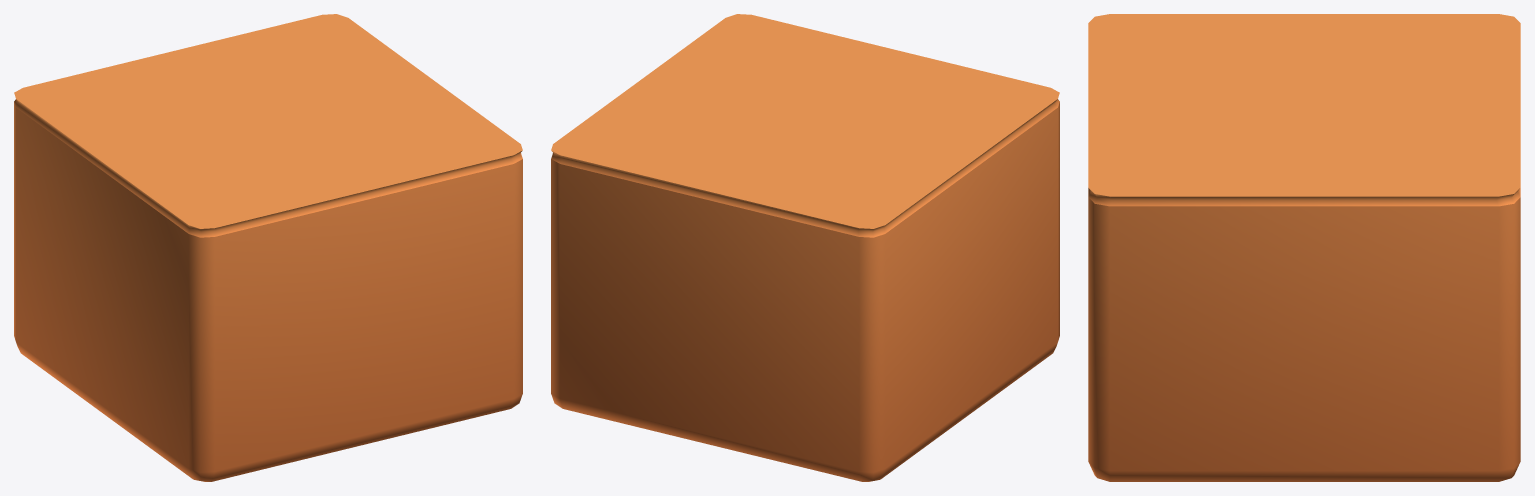
File: 3D_Tile_Socket_Ground_01.fbx
The picture shows the model from 3 angles, left to right: view 1: azimuth 30°, elevation 25°; view 2: azimuth 150°, elevation 25°; view 3: azimuth 270°, elevation 25°; orthographic projection. The views are drawn at different scales.
Visible parts, largest first — view 1: 3D_Tile_Socket_Ground_01; view 2: 3D_Tile_Socket_Ground_01; view 3: 3D_Tile_Socket_Ground_01.
Part boxes in pixels (<box>): 3D_Tile_Socket_Ground_01: <box>14,14,522,481</box>; 3D_Tile_Socket_Ground_01: <box>551,14,1059,481</box>; 3D_Tile_Socket_Ground_01: <box>1088,14,1520,481</box>.
Size of the model in its own units: 200 by 150 by 200.
